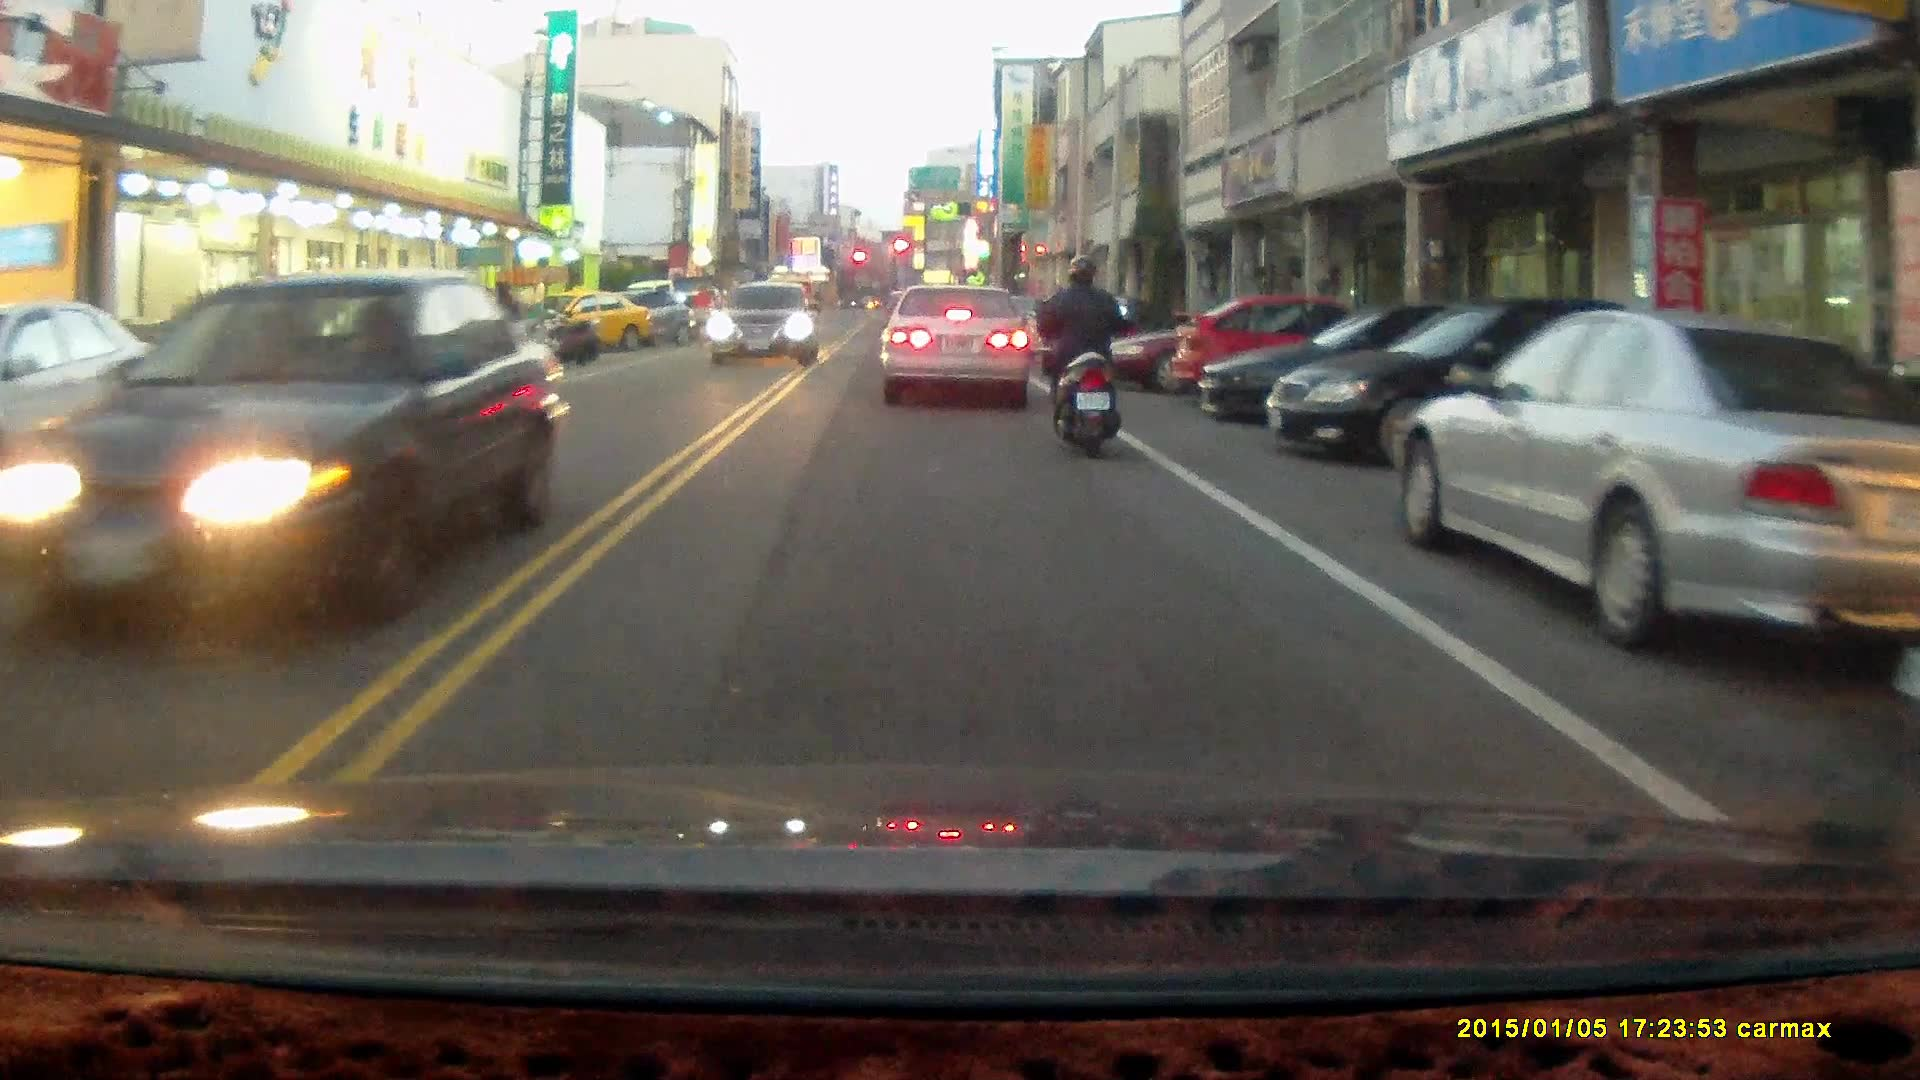rider: (1034, 252, 1129, 459), (688, 286, 717, 356)
vehicle: (14, 275, 558, 631), (1395, 310, 1920, 651), (1265, 298, 1650, 464), (1195, 307, 1566, 430), (0, 306, 149, 521), (1167, 297, 1392, 409), (879, 284, 1033, 411), (711, 282, 821, 371), (524, 288, 649, 361)
